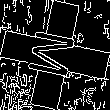M_E: (25, 27, 85, 83)
